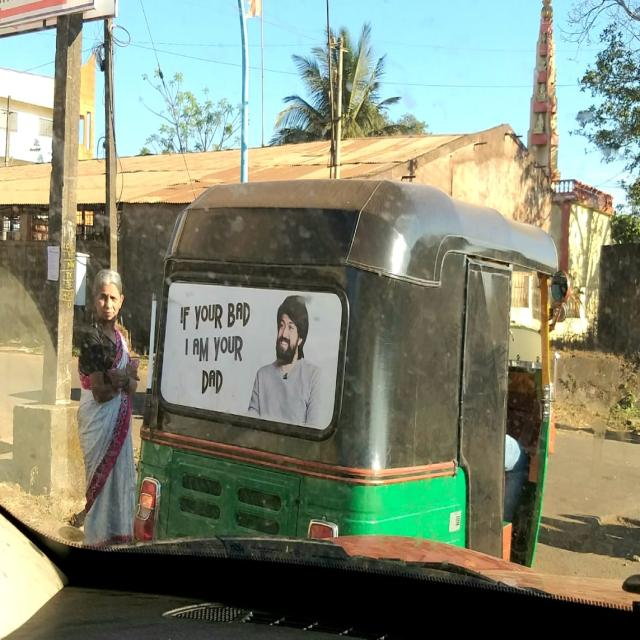autorickshaw: (135, 180, 561, 565)
